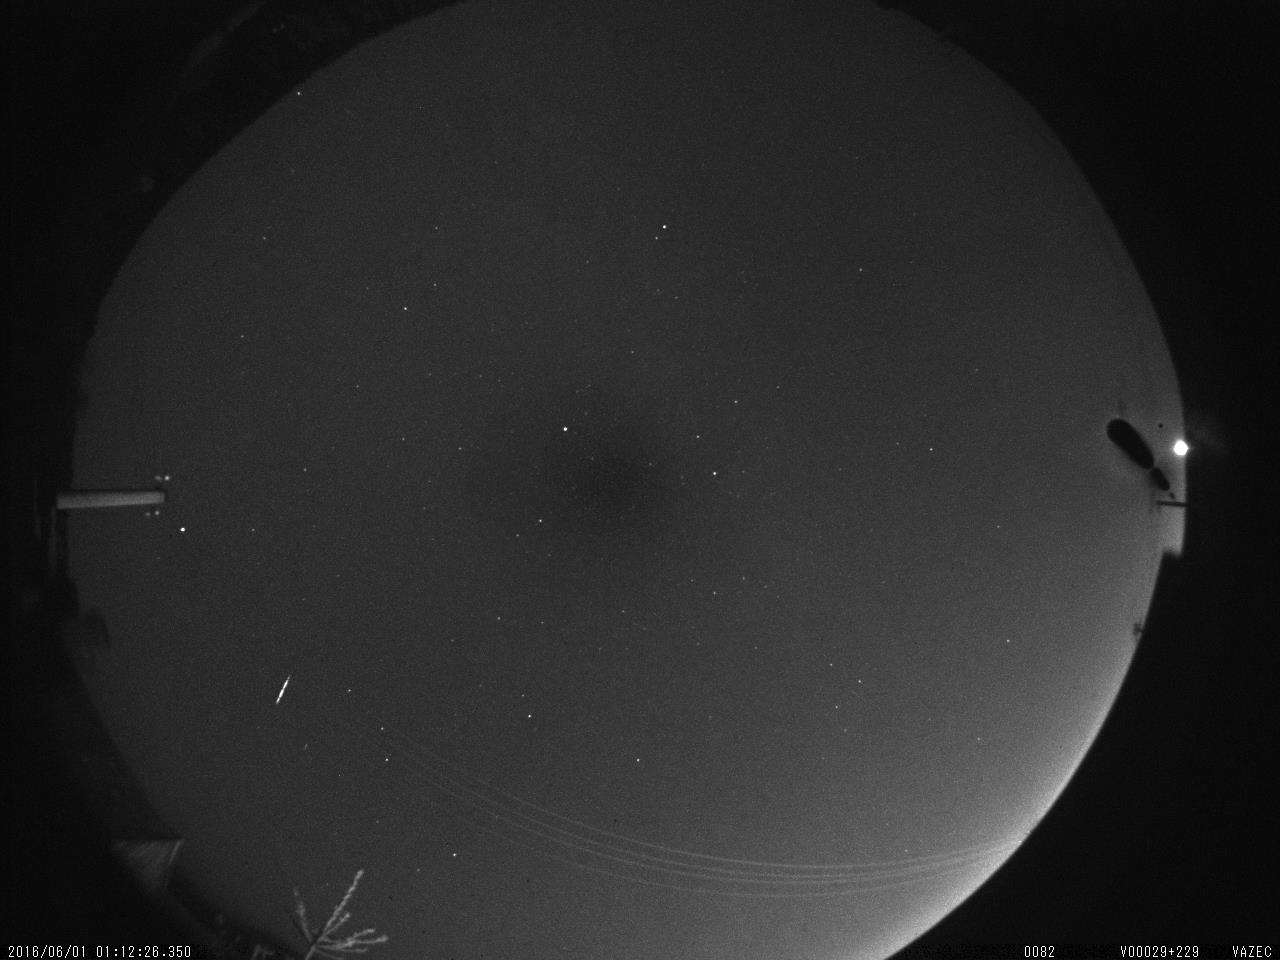meteor: (269, 667, 297, 717)
